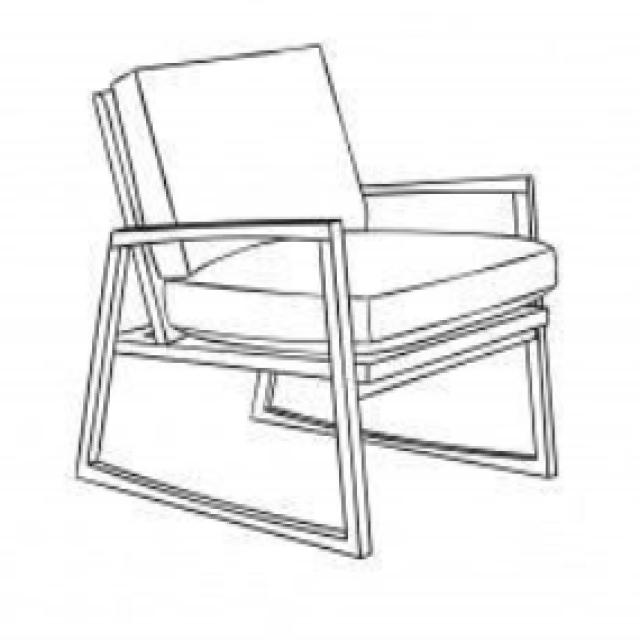Armrest: (87, 216, 359, 386), (358, 171, 540, 243)
Backrest: (107, 37, 371, 284)
Leg_Structure: (72, 311, 562, 564)
Seat: (159, 225, 563, 348)
